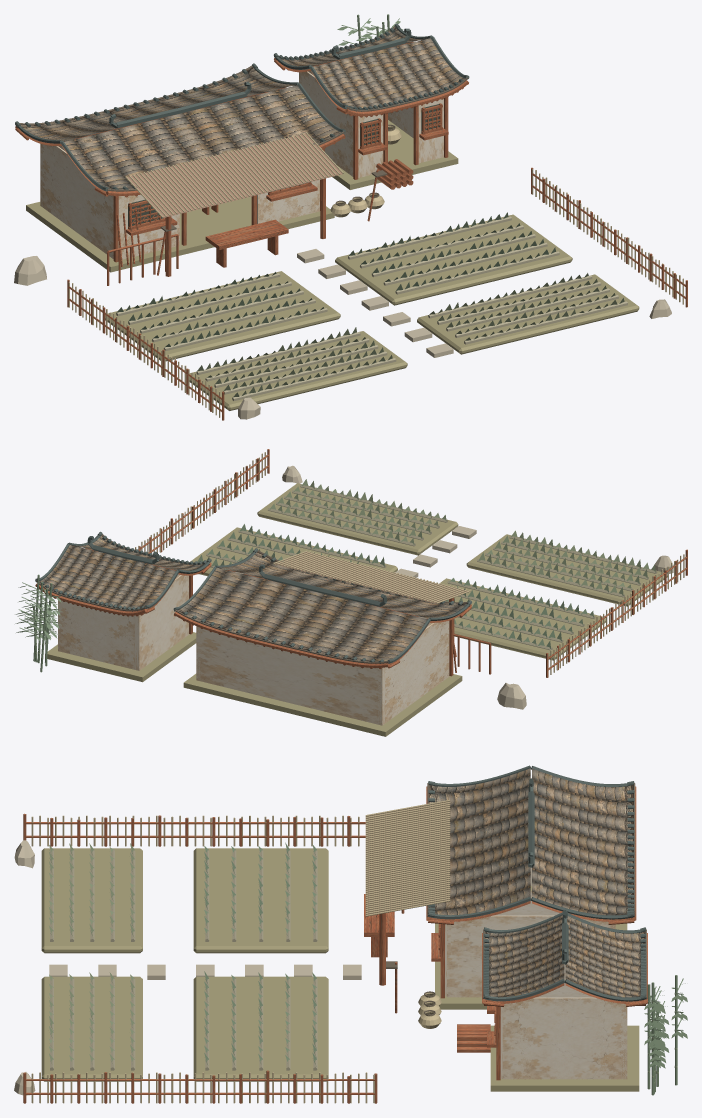
The picture shows the model from 3 angles, top to bottom: view 1: azimuth 30°, elevation 25°; view 2: azimuth 150°, elevation 25°; view 3: azimuth 270°, elevation 25°; orthographic projection. The views are drawn at different scales.
Visible parts, largest first — view 1: dongpo__field_earth, dongpo__painted_roof, dongpo__painted_cedar, dongpo__shore_silt, dongpo__painted_plaster, dongpo__chibi_bamboo, dongpo__tile_ridges, dongpo__jade_foliage, dongpo__leaf_sage, dongpo__warm_limestone, dongpo__chibi_ink, dongpo__deep_recess; view 2: dongpo__painted_roof, dongpo__painted_plaster, dongpo__field_earth, dongpo__shore_silt, dongpo__chibi_bamboo, dongpo__painted_cedar, dongpo__leaf_sage, dongpo__jade_foliage, dongpo__tile_ridges, dongpo__warm_limestone, dongpo__chibi_ink; view 3: dongpo__field_earth, dongpo__painted_roof, dongpo__painted_plaster, dongpo__chibi_bamboo, dongpo__painted_cedar, dongpo__shore_silt, dongpo__tile_ridges, dongpo__jade_foliage, dongpo__warm_limestone, dongpo__leaf_sage, dongpo__chibi_ink.
Boxes of the visible parts, x1,y1,x2,y2 form: dongpo__field_earth: (26,120,639,410); dongpo__painted_roof: (21,27,464,217); dongpo__painted_cedar: (15,42,687,420); dongpo__shore_silt: (116,216,627,400); dongpo__painted_plaster: (40,46,443,259); dongpo__chibi_bamboo: (68,125,683,417); dongpo__tile_ridges: (15,23,469,191); dongpo__jade_foliage: (116,14,555,347); dongpo__leaf_sage: (196,30,624,397); dongpo__warm_limestone: (14,249,671,419); dongpo__chibi_ink: (19,26,468,231); dongpo__deep_recess: (128,104,439,226); dongpo__painted_roof: (39,535,467,661); dongpo__painted_plaster: (58,552,449,725); dongpo__field_earth: (45,483,667,736); dongpo__shore_silt: (196,484,657,650); dongpo__chibi_bamboo: (135,452,684,676); dongpo__painted_cedar: (35,449,687,677); dongpo__leaf_sage: (33,479,655,658); dongpo__jade_foliage: (15,524,593,672); dongpo__tile_ridges: (35,531,471,663); dongpo__warm_limestone: (282,465,673,709); dongpo__chibi_ink: (36,534,467,663); dongpo__field_earth: (41,848,639,1091); dongpo__painted_roof: (365,768,644,997); dongpo__painted_plaster: (445,778,627,1079); dongpo__chibi_bamboo: (31,800,450,1103); dongpo__painted_cedar: (23,786,647,1103); dongpo__shore_silt: (50,849,317,1070); dongpo__tile_ridges: (427,765,646,1001); dongpo__jade_foliage: (204,842,687,1095); dongpo__warm_limestone: (14,840,361,1095); dongpo__leaf_sage: (49,843,677,1083); dongpo__chibi_ink: (386,783,646,1015).
Bounding box in the file's own units: 18.57 × 4.36 × 19.96.
14 materials, 4 textured.
